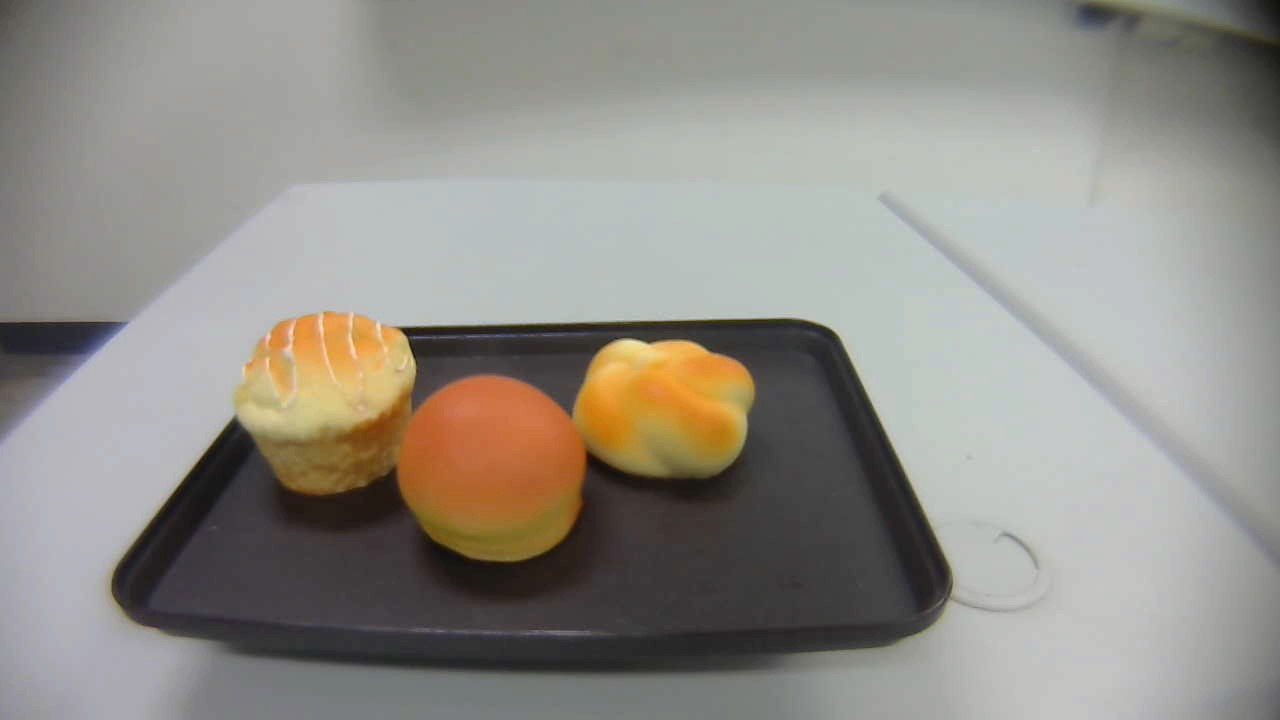bun: (395, 373, 589, 563)
cupcake: (237, 310, 418, 495)
twist bread: (573, 337, 756, 479)
